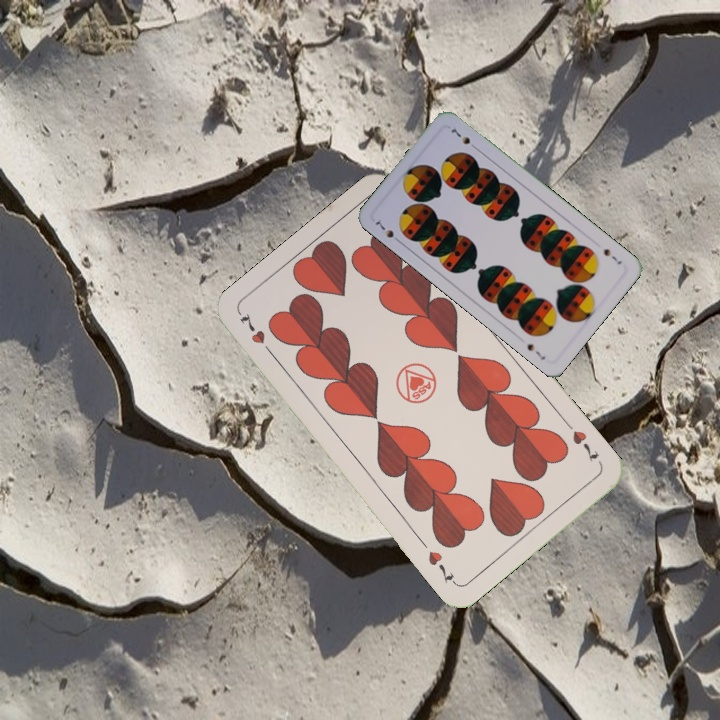H7: (235, 309, 277, 359), (561, 417, 602, 463)
S7: (369, 215, 404, 246), (600, 244, 624, 267)
